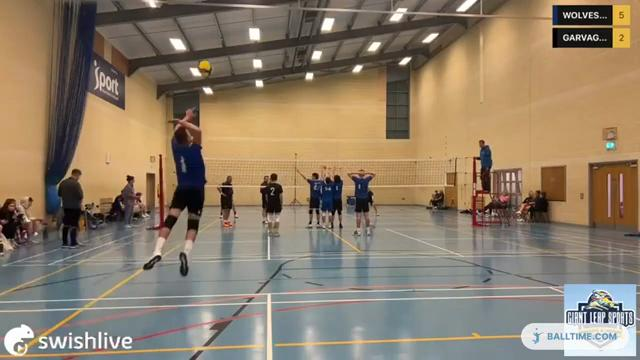Player: (348, 170, 374, 235), (297, 170, 322, 227), (265, 173, 282, 236), (217, 175, 233, 226), (332, 175, 343, 228), (321, 176, 332, 228), (260, 176, 269, 223), (368, 190, 378, 216)
Serve: (141, 105, 207, 279)
ball: (197, 60, 213, 79)
